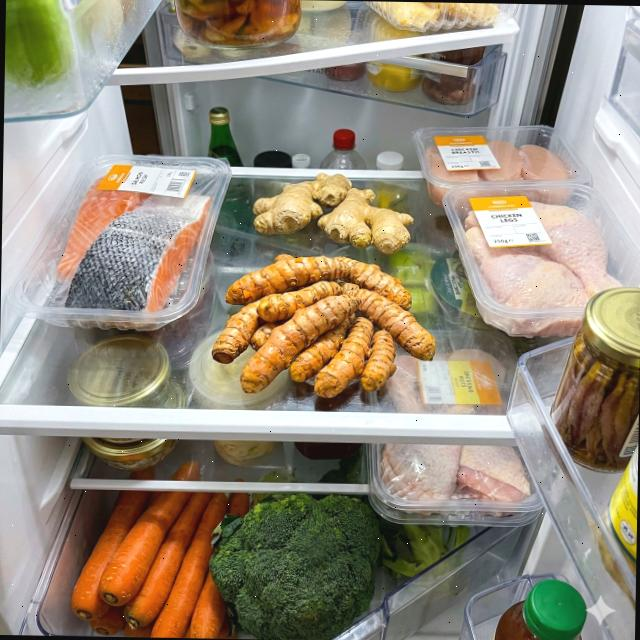brocolli: (207, 491, 381, 640)
carrot: (70, 459, 251, 639)
chicken: (462, 200, 624, 340), (423, 138, 572, 210)
fish: (55, 174, 212, 328), (377, 443, 531, 517)
ginger: (252, 171, 414, 254)
turmeric: (210, 252, 438, 399)
